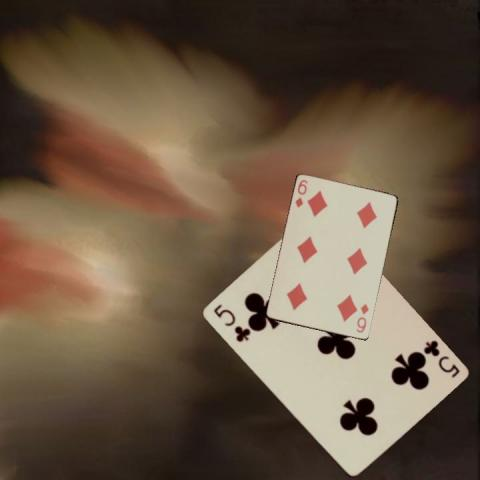5c: (210, 301, 251, 344), (420, 337, 461, 380)
6d: (353, 300, 370, 334), (293, 177, 309, 209)
